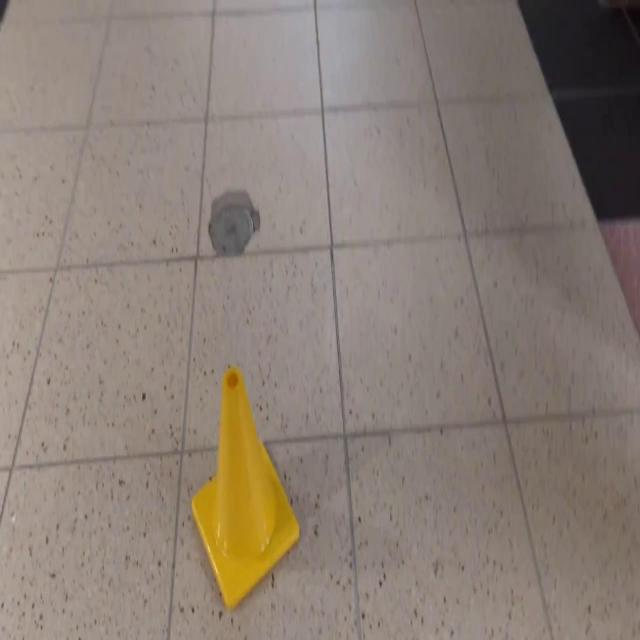frc_cone: (191, 367, 300, 610)
